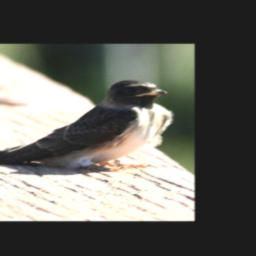Swallow: (0, 78, 174, 173)
